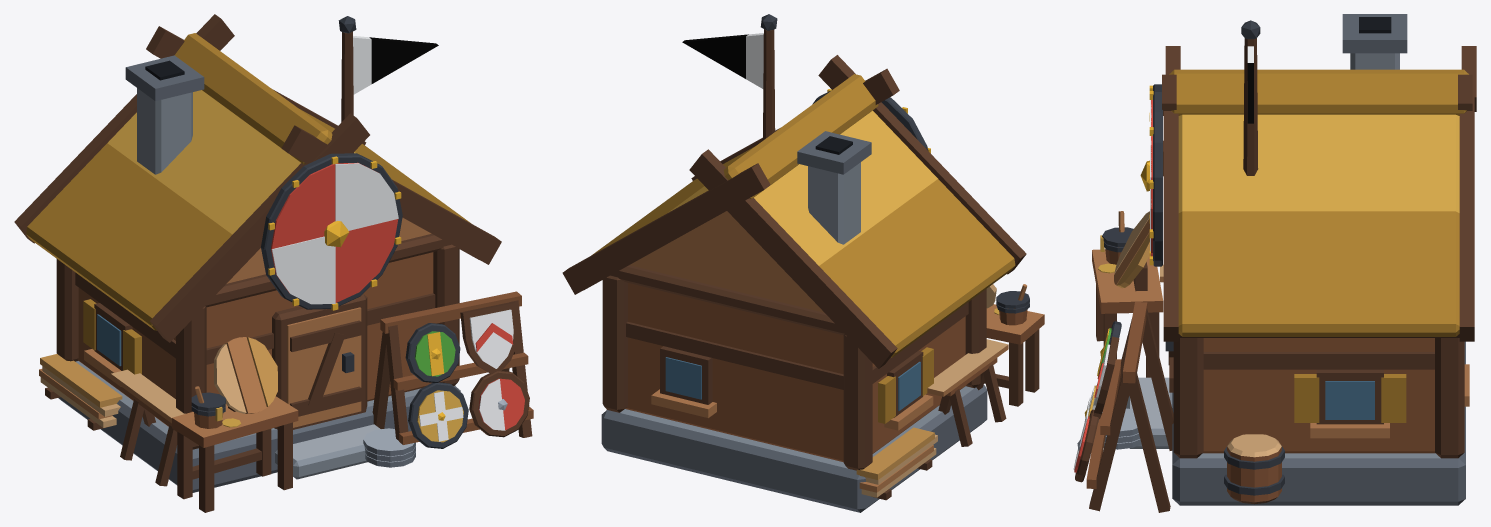
File: Bld_ShieldWorkshop_L2.fbx
The picture shows the model from 3 angles, left to right: view 1: azimuth 30°, elevation 25°; view 2: azimuth 150°, elevation 25°; view 3: azimuth 270°, elevation 25°; orthographic projection. The views are drawn at different scales.
Visible parts, largest first — view 1: Bld_ShieldWorkshop_L2; view 2: Bld_ShieldWorkshop_L2; view 3: Bld_ShieldWorkshop_L2.
Boxes of the visible parts, x1,y1,x2,y2 form: Bld_ShieldWorkshop_L2: (14,14,533,512); Bld_ShieldWorkshop_L2: (562,14,1044,512); Bld_ShieldWorkshop_L2: (1073,14,1476,512).
Bounding box in the file's own units: 3.52 × 3.95 × 3.24.
